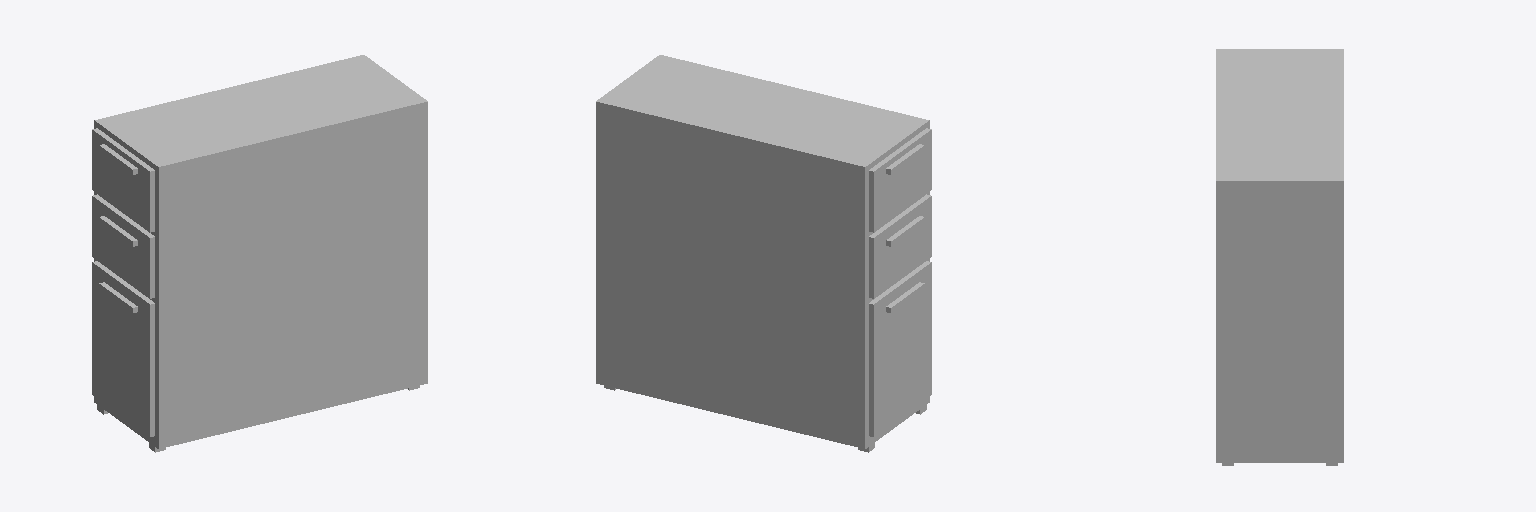
The model's file is Drawer.obj.
The picture shows the model from 3 angles: view 1: azimuth 30°, elevation 25°; view 2: azimuth 150°, elevation 25°; view 3: azimuth 270°, elevation 25°; orthographic projection.
Visible parts, largest first — view 1: Untitled.001; view 2: Untitled.001; view 3: Untitled.001.
Boxes of the visible parts, <box> form: Untitled.001: <box>92,55,427,452</box>; Untitled.001: <box>596,55,931,452</box>; Untitled.001: <box>1216,49,1343,465</box>.
Bounding box in the file's own units: 5.3 × 5.2 × 2.1.